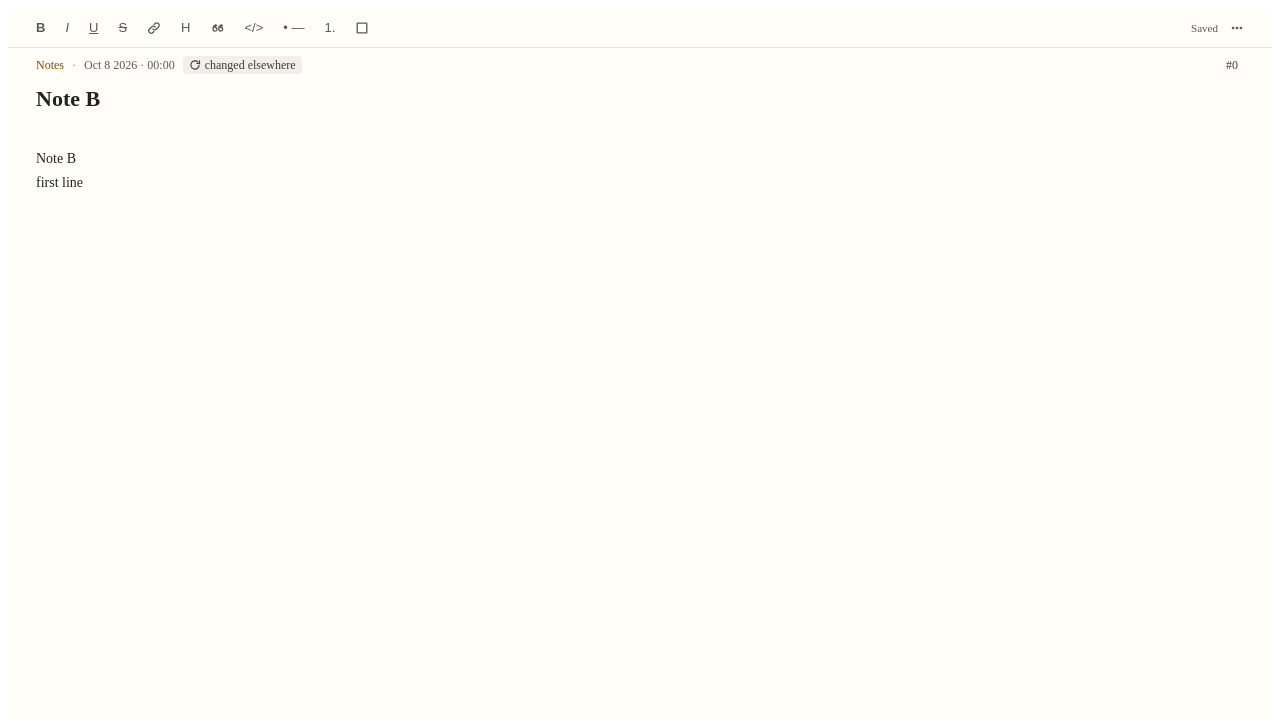
Test case: Mark reviewed certifies only what the editor shows › a stale review renders the newer body before Mark reviewed can verify
Check: the field with class "editor-body" shows "first line", box top-left (36, 151), bottom-right (83, 190)
Click the button with test id "trust-chip" at [242, 65], box top-left (183, 56), bottom-right (302, 74)
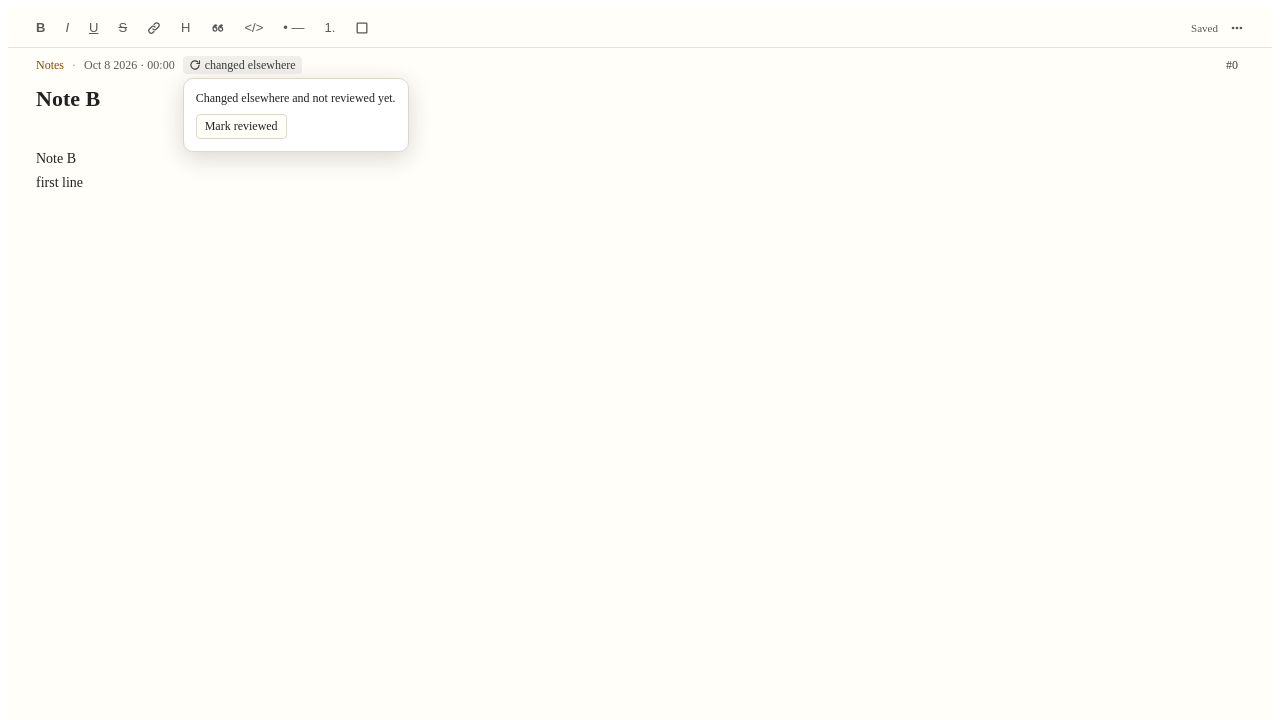
Check: the button with class "mark-reviewed-btn" is enabled
Click the button with class "mark-reviewed-btn" at [241, 126], box top-left (196, 114), bottom-right (287, 139)
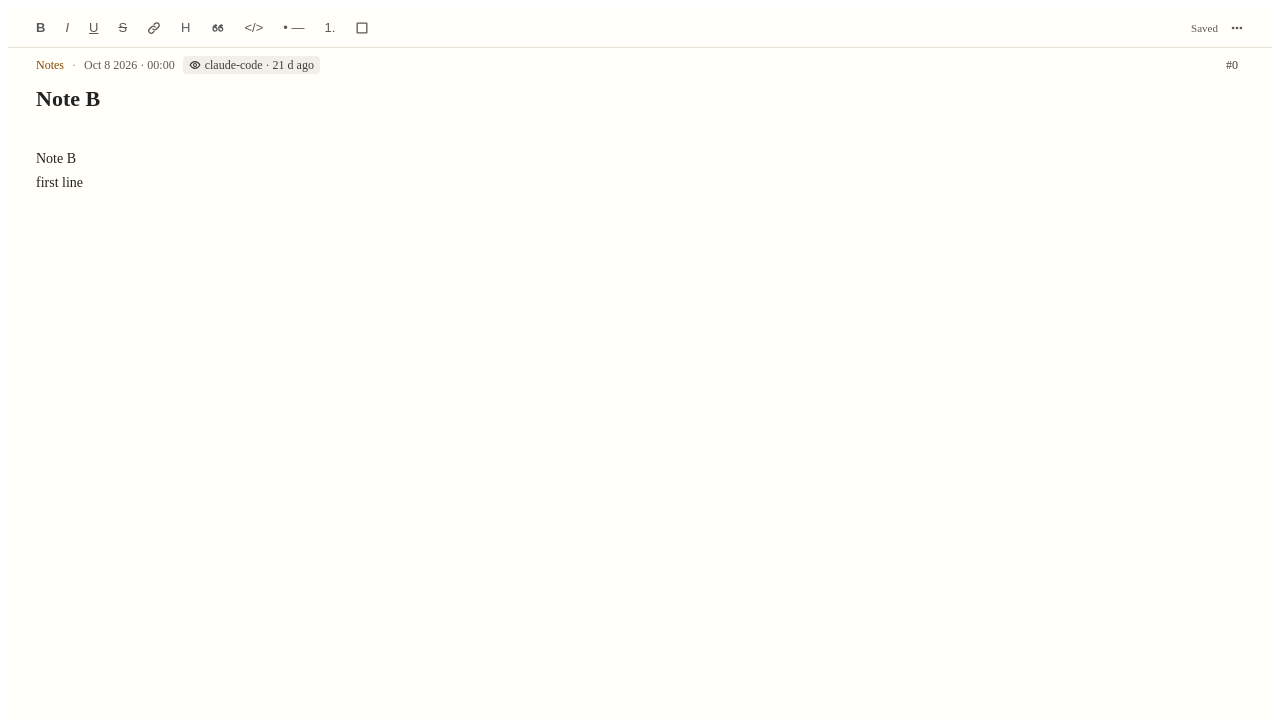
Check: the element with class "editor-body" does not show "AGENT LINE"
Check: the button with test id "trust-chip" shows "claude-code"
Click the button with test id "trust-chip" at [251, 65], box top-left (183, 56), bottom-right (320, 74)
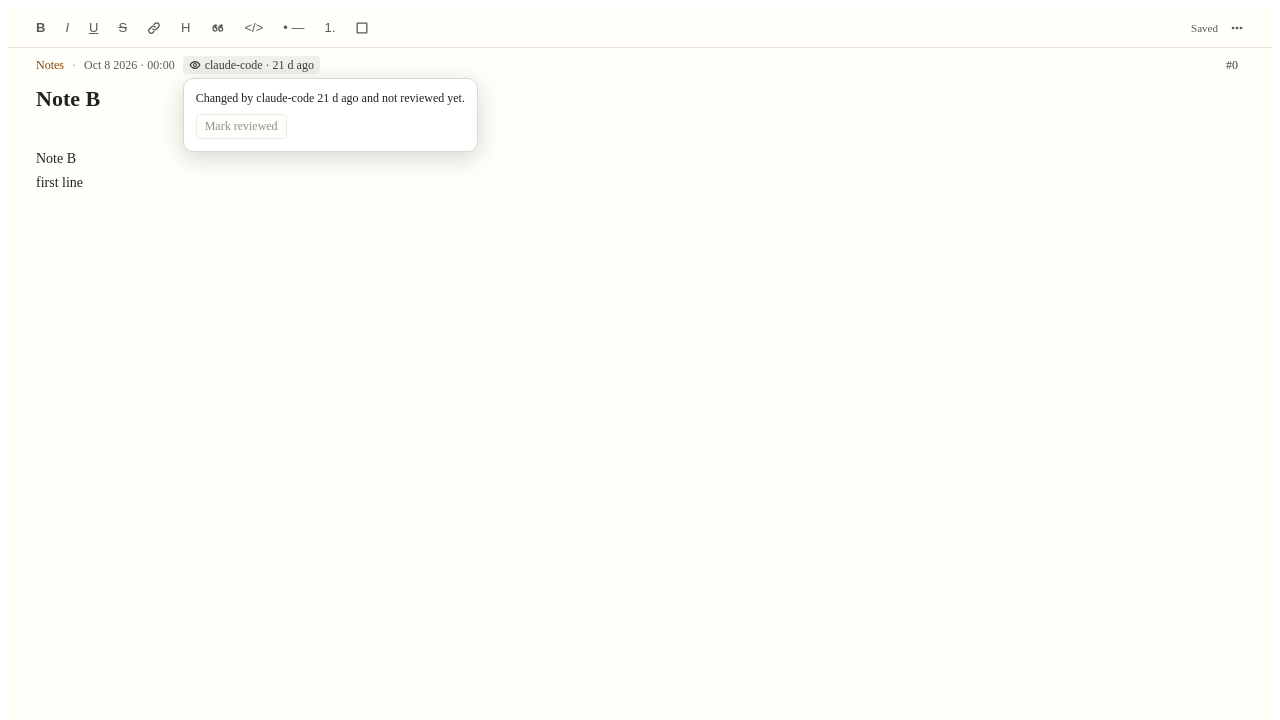
Check: the button with class "mark-reviewed-btn" is disabled
Click the button with class "mark-reviewed-btn" at [241, 126], box top-left (196, 114), bottom-right (287, 139)
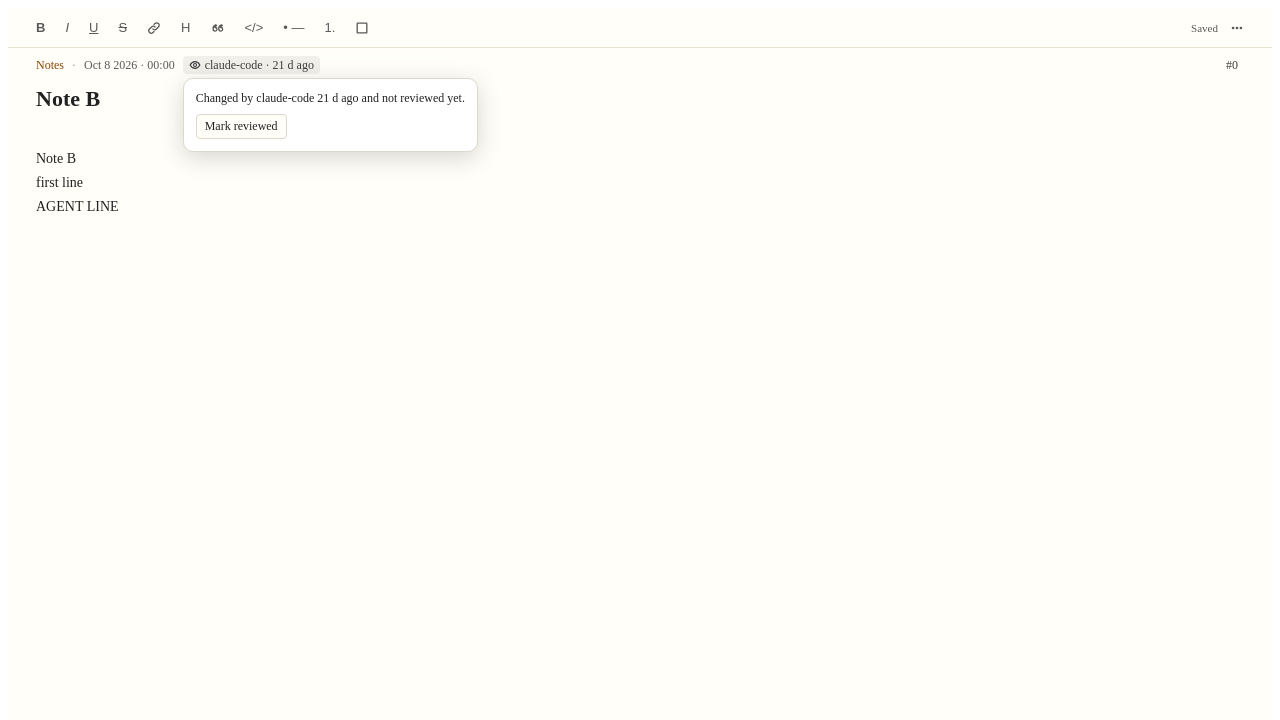
Check: the field with class "editor-body" shows "AGENT LINE", box top-left (36, 151), bottom-right (119, 214)
Check: the button with class "mark-reviewed-btn" is enabled
Click the button with class "mark-reviewed-btn" at [241, 126], box top-left (196, 114), bottom-right (287, 139)
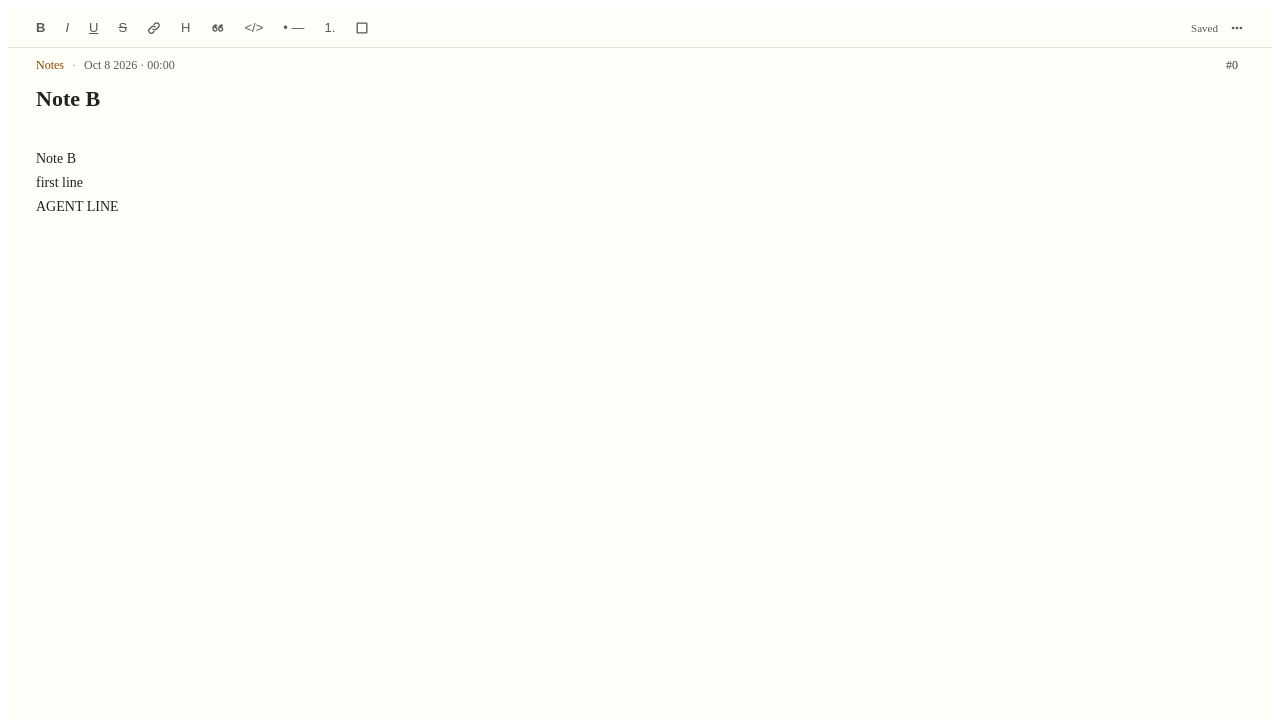
Check: the button with test id "trust-chip" is gone
